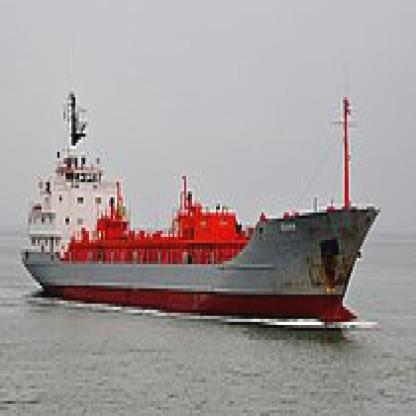Tanker: (30, 191, 386, 325)
